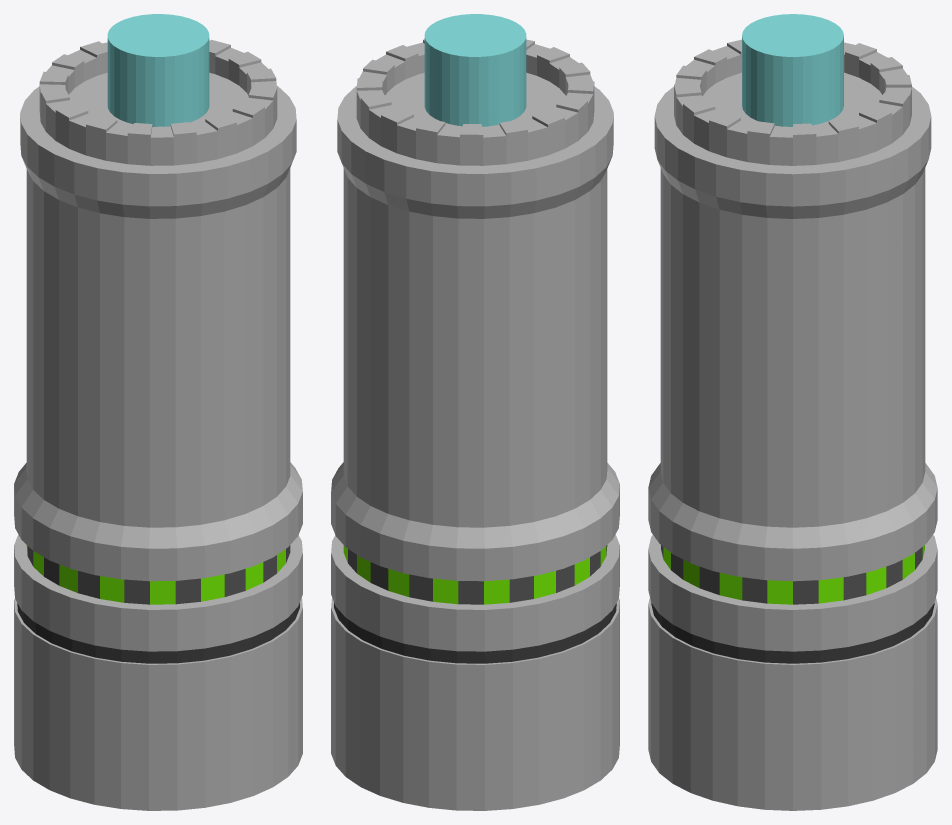
File: Replicator.fbx
The picture shows the model from 3 angles, left to right: view 1: azimuth 30°, elevation 25°; view 2: azimuth 150°, elevation 25°; view 3: azimuth 270°, elevation 25°; orthographic projection.
Visible parts, largest first — view 1: Cylinder; view 2: Cylinder; view 3: Cylinder.
Part boxes in pixels (bbox=[...]): Cylinder: bbox=[14, 14, 302, 810]; Cylinder: bbox=[331, 14, 619, 810]; Cylinder: bbox=[648, 14, 937, 810].
Bounding box in the file's own units: 200 × 545 × 200.
